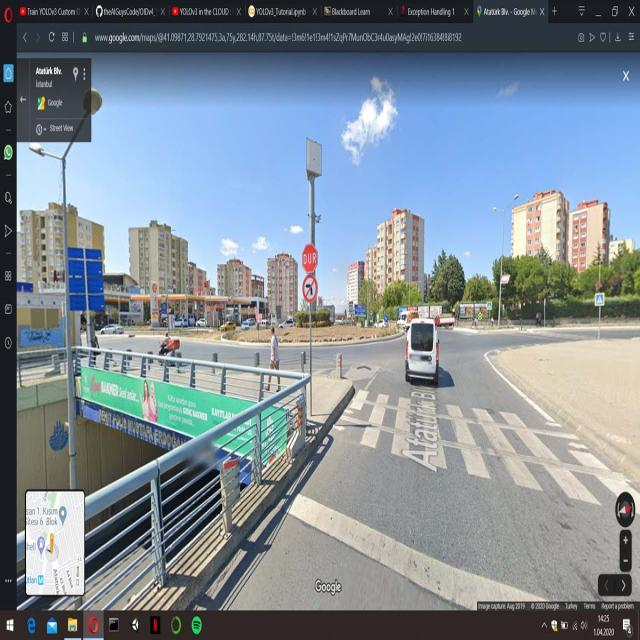dur: (301, 242, 320, 273)
soladonulmez: (301, 272, 319, 307)
